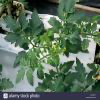Tomato leaf yellow virus: (54, 54, 61, 67), (50, 51, 59, 58), (56, 49, 66, 54)
